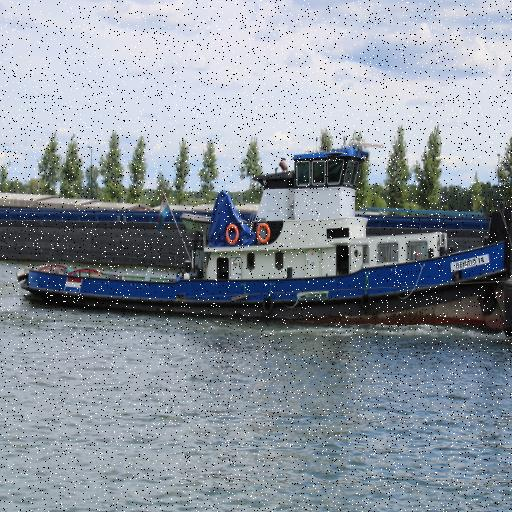tugboat: (15, 131, 512, 341)
